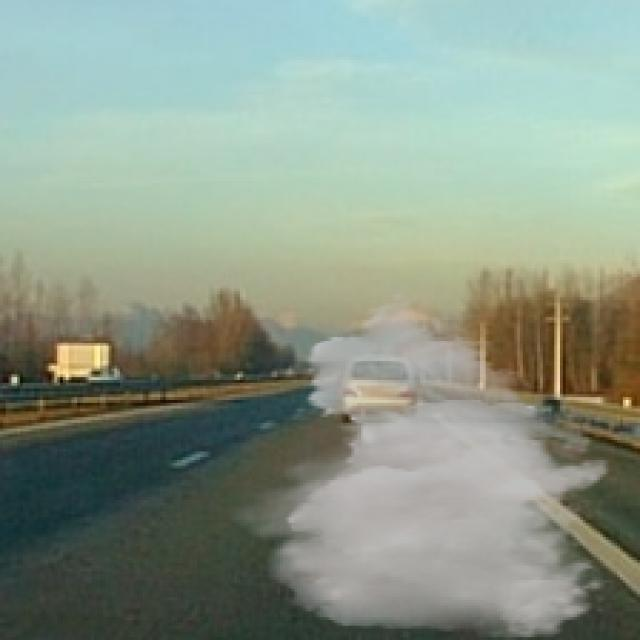Smoke: (222, 292, 614, 637)
